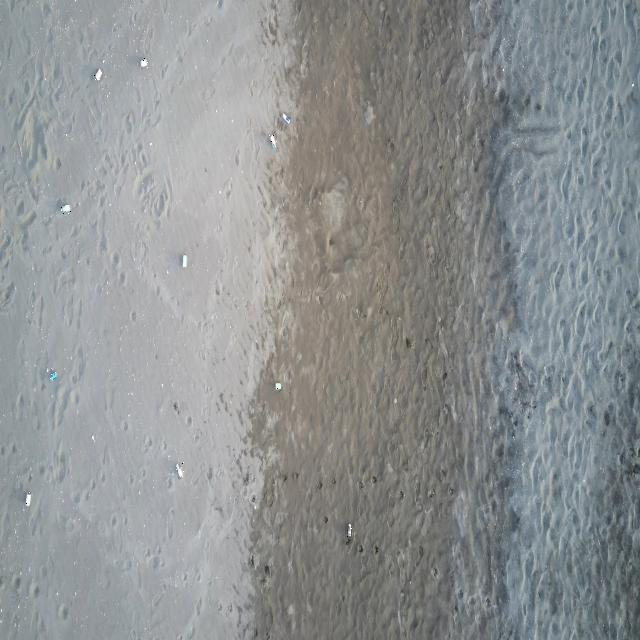tin-and-aluminum-cans: (176, 460, 183, 480), (268, 133, 276, 150), (94, 68, 103, 82), (140, 57, 150, 69), (25, 491, 32, 508), (282, 112, 291, 125), (180, 253, 187, 269), (60, 204, 70, 214), (50, 371, 58, 381), (347, 522, 352, 538), (275, 383, 282, 393)
